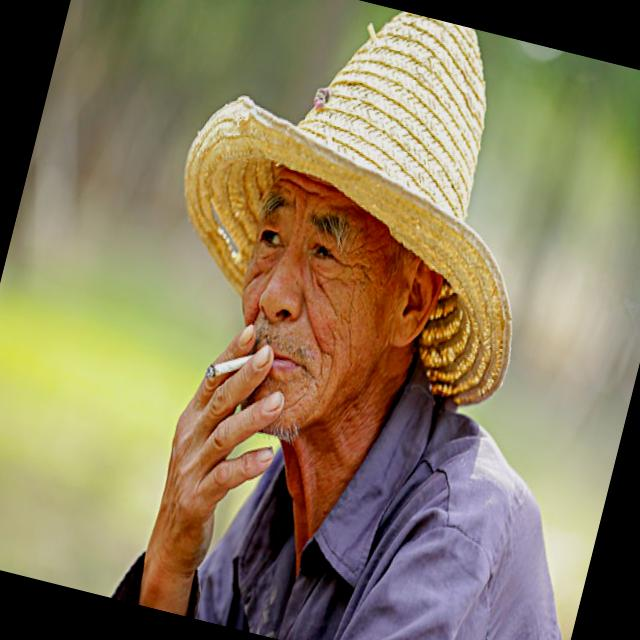smoke: (196, 332, 266, 396)
